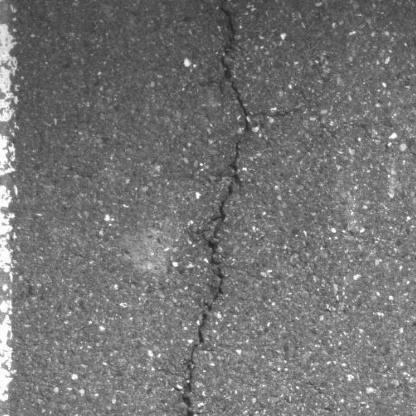Cracks: (179, 0, 256, 416)
